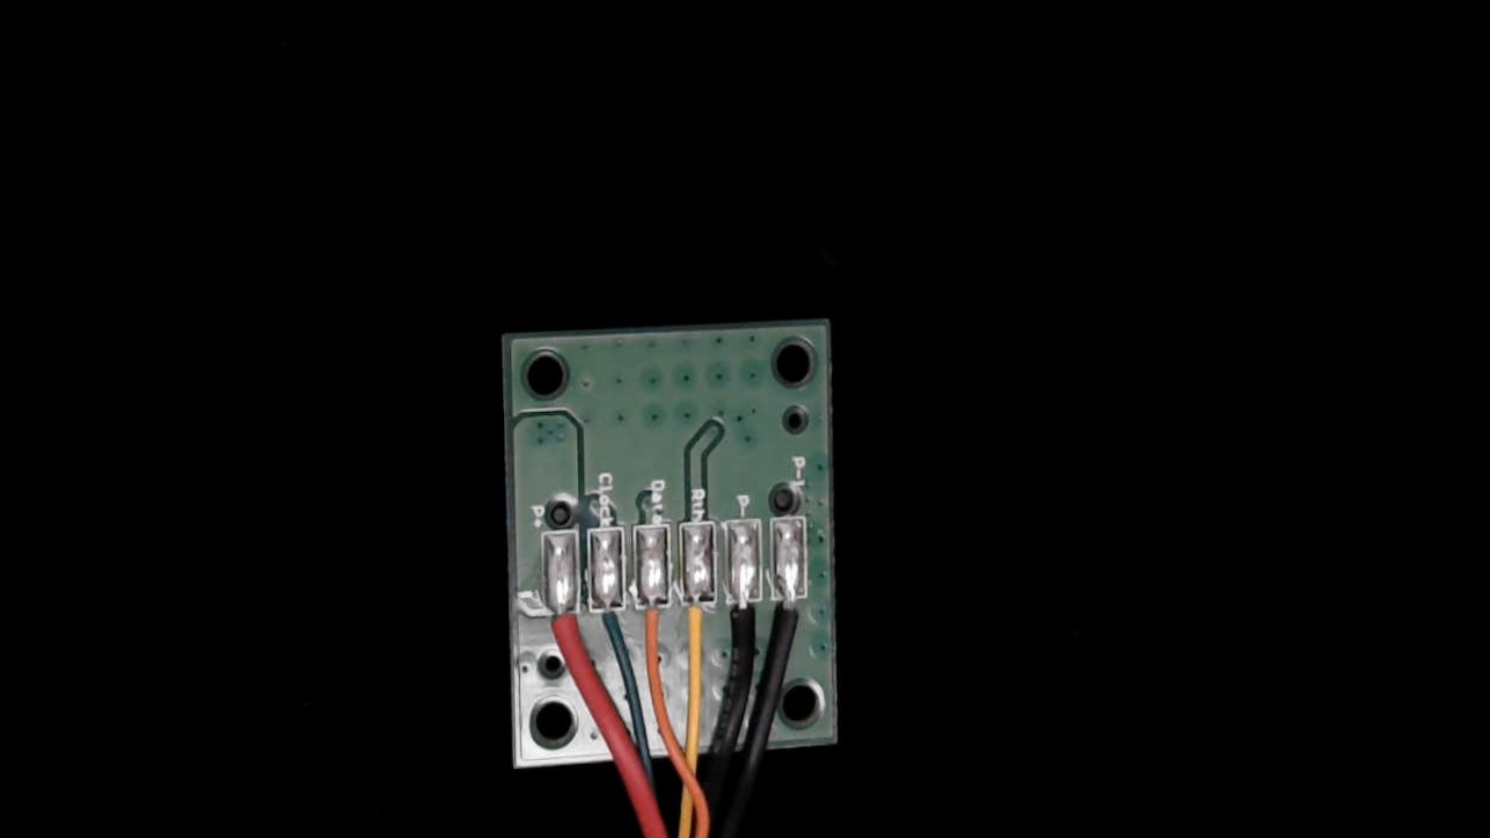Black: (724, 579, 764, 676)
Black1: (774, 575, 814, 664)
Green: (589, 582, 625, 661)
Orange: (636, 579, 673, 669)
Red: (543, 588, 585, 681)
Yellow: (678, 582, 718, 680)
